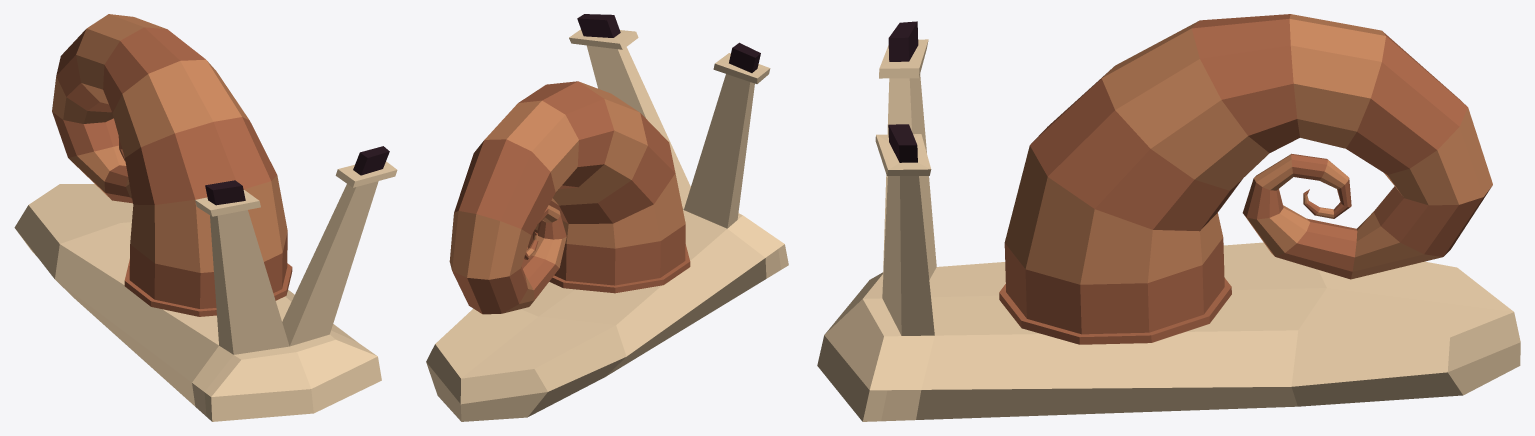
Rendered from snail.fbx.
The picture shows the model from 3 angles, left to right: view 1: azimuth 30°, elevation 25°; view 2: azimuth 150°, elevation 25°; view 3: azimuth 270°, elevation 25°; orthographic projection. The views are drawn at different scales.
Visible parts, largest first — view 1: Cube, Cylinder; view 2: Cube, Cylinder; view 3: Cylinder, Cube.
Boxes of the visible parts, box(x1,y1,x2,y2) form: Cube: box(14, 146, 397, 421); Cylinder: box(52, 14, 292, 316); Cube: box(426, 14, 788, 421); Cylinder: box(449, 81, 690, 314); Cylinder: box(999, 14, 1492, 344); Cube: box(817, 21, 1520, 421).
Bounding box in the file's own units: 602 × 762 × 1389.
1 material, 1 textured.
